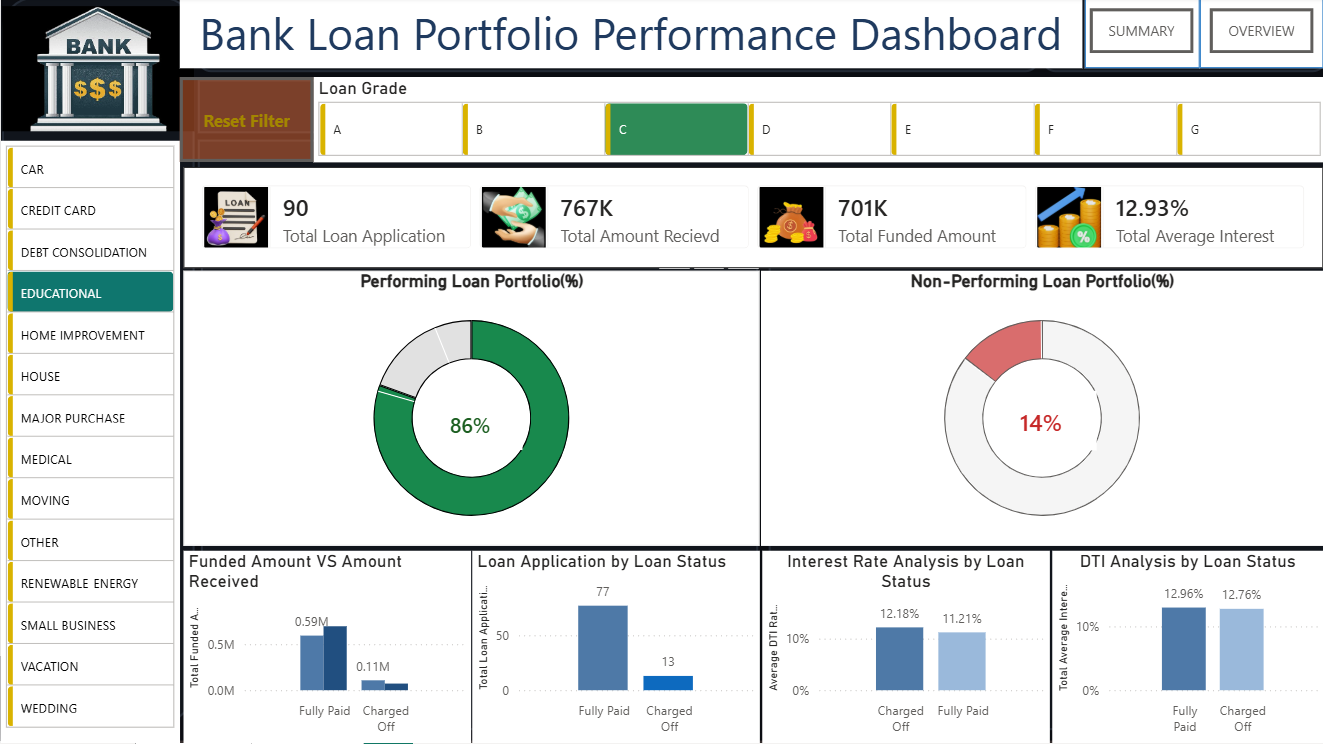

What the dashboard file says about the page in this screenshot:
{"tool":"powerbi","page":{"name":"Summary","canvas":[1280,720],"ordinal":0},"visuals":[{"type":"donutChart","title":"Performing Loan Portfolio(%)","fields":{"Category":["financial_loan.Good_Vs_Bad_Column"],"Y":["Measure_Table.Total Application","Measure_Table.Good Loan %"]},"box":[176.1,264.2,556.2,265.4],"z":0},{"type":"donutChart","title":"Non-Performing Loan Portfolio(%)","fields":{"Category":["financial_loan.Good_Vs_Bad_Column"],"Y":["Measure_Table.Total Application","Measure_Table.Average DTI Ratio"]},"box":[733.5,264.2,542.9,265.4],"z":1000},{"type":"cardVisual","fields":{"Data":["Measure_Table.Total Application","Measure_Table.Total Amount Recievd","Measure_Table.Total Funded Amt","Measure_Table.Total Avg Interest"]},"box":[176.1,164.1,1100.3,97.7],"z":2000},{"type":"cardVisual","fields":{"Data":["Measure_Table.Good Loan %"]},"box":[404.2,381.2,105,61.5],"z":3000},{"type":"clusteredColumnChart","title":"Funded Amount VS Amount Received","fields":{"Y":["Measure_Table.Total Funded Amt","Measure_Table.Total Amt Recievd"],"Category":["financial_loan.LOAN_STATUS"]},"box":[176.1,534.2,277.5,185.8],"z":5000},{"type":"clusteredColumnChart","title":"Interest Rate Analysis by Loan Status","fields":{"Category":["financial_loan.LOAN_STATUS"],"Y":["Measure_Table.Avg DTI Ratio"]},"box":[734.7,534.2,277.5,185.8],"z":6000},{"type":"clusteredColumnChart","title":"Loan Application by Loan Status","fields":{"Y":["Measure_Table.Total Application"],"Category":["financial_loan.LOAN_STATUS"]},"box":[454.8,534.2,277.5,185.8],"z":7000},{"type":"textbox","box":[652.7,627.3,12.1,8.4],"z":8000},{"type":"clusteredColumnChart","title":"DTI Analysis by Loan Status","fields":{"Category":["financial_loan.LOAN_STATUS"],"Y":["Measure_Table.Total Avg Int"]},"box":[1014.6,534.5,261.8,185.8],"z":9000},{"type":"image","box":[1.2,0,185.8,138.7],"z":10000},{"type":"advancedSlicerVisual","fields":{"Values":["financial_loan.PURPOSE"]},"box":[0,138.7,172.5,581.5],"z":11000},{"type":"advancedSlicerVisual","title":"Loan Grade","fields":{"Values":["financial_loan.GRADE"]},"box":[301.6,77.2,977.2,82],"z":12000},{"type":"actionButton","box":[172.5,77.2,129.1,82],"z":13000},{"type":"textbox","box":[172.5,0,871.1,68.8],"z":14000},{"type":"pageNavigator","box":[879.5,138.7,400.5,49.5],"z":15000},{"type":"cardVisual","fields":{"Data":["Measure_Table.Bad Loan %"]},"box":[954.3,375.2,108.6,67.6],"z":16000},{"type":"shape","box":[1046,0,111,68.8],"z":17000},{"type":"shape","box":[1157,0,119.4,68.8],"z":18000},{"type":"actionButton","box":[1050.8,10.9,100.1,43.4],"z":19000},{"type":"actionButton","box":[1166.6,10.9,100.1,43.4],"z":20000}]}

Visuals, with their boxes in screenshot pixels (x1, y1, x2, y2), scaled from the page's 1280x720 canvas onto the 1323x744 screenshot:
"Performing Loan Portfolio(%)" donutChart: [182, 273, 757, 547]
"Non-Performing Loan Portfolio(%)" donutChart: [758, 273, 1319, 547]
cardVisual - Measure_Table.Total Application x Measure_Table.Total Amount Recievd: [182, 170, 1319, 271]
cardVisual - Measure_Table.Good Loan %: [418, 394, 526, 457]
"Funded Amount VS Amount Received" clusteredColumnChart: [182, 552, 469, 743]
"Interest Rate Analysis by Loan Status" clusteredColumnChart: [759, 552, 1046, 743]
"Loan Application by Loan Status" clusteredColumnChart: [470, 552, 757, 743]
textbox: [675, 648, 687, 657]
"DTI Analysis by Loan Status" clusteredColumnChart: [1049, 552, 1319, 743]
image: [1, 0, 193, 143]
advancedSlicerVisual - financial_loan.PURPOSE: [0, 143, 178, 743]
"Loan Grade" advancedSlicerVisual: [312, 80, 1322, 165]
actionButton: [178, 80, 312, 165]
textbox: [178, 0, 1079, 71]
pageNavigator: [909, 143, 1322, 194]
cardVisual - Measure_Table.Bad Loan %: [986, 388, 1099, 458]
shape: [1081, 0, 1196, 71]
shape: [1196, 0, 1319, 71]
actionButton: [1086, 11, 1190, 56]
actionButton: [1206, 11, 1309, 56]
